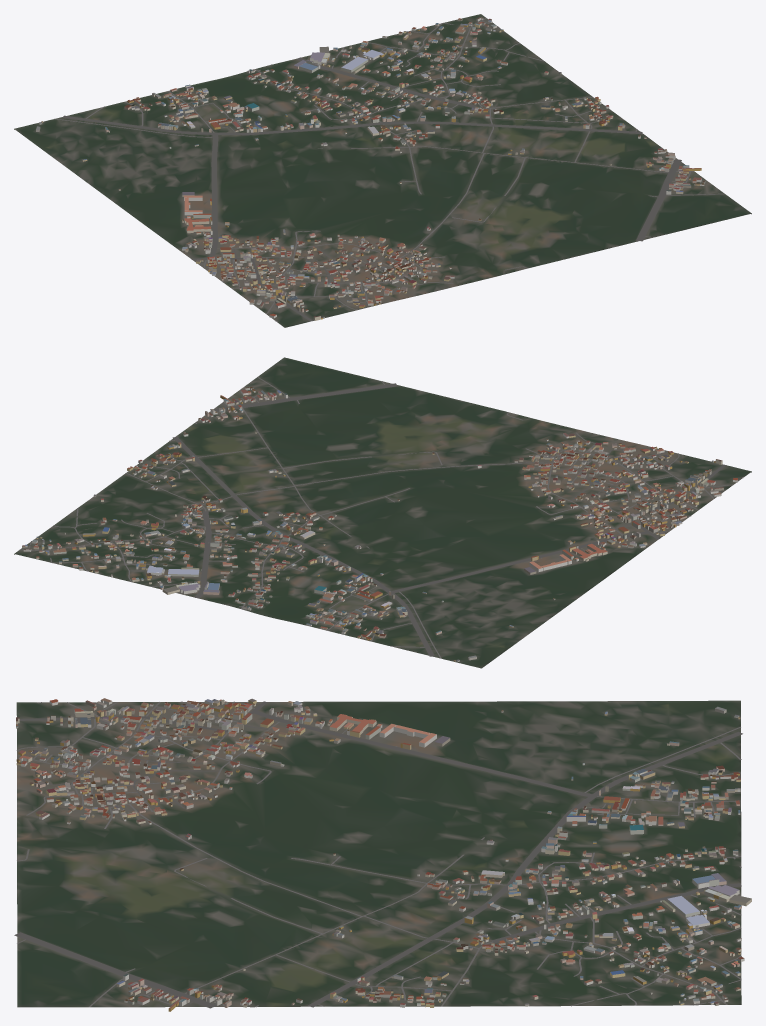
The picture shows the model from 3 angles, top to bottom: view 1: azimuth 30°, elevation 25°; view 2: azimuth 150°, elevation 25°; view 3: azimuth 270°, elevation 25°; orthographic projection. The views are drawn at different scales.
Parts seen in each view (by area): view 1: ground, buildings, roads; view 2: ground, buildings, roads; view 3: ground, buildings, roads.
Part boxes in pixels (left/top/right/bottom): ground: left=14, top=14, right=751, bottom=327; buildings: left=36, top=17, right=705, bottom=320; roads: left=54, top=18, right=724, bottom=322; ground: left=14, top=357, right=751, bottom=668; buildings: left=22, top=387, right=737, bottom=661; roads: left=19, top=377, right=743, bottom=658; ground: left=16, top=700, right=741, bottom=1007; buildings: left=16, top=698, right=751, bottom=1011; roads: left=14, top=701, right=742, bottom=1008.
Size of the model in its own units: 1426 by 23.36 by 1429.
